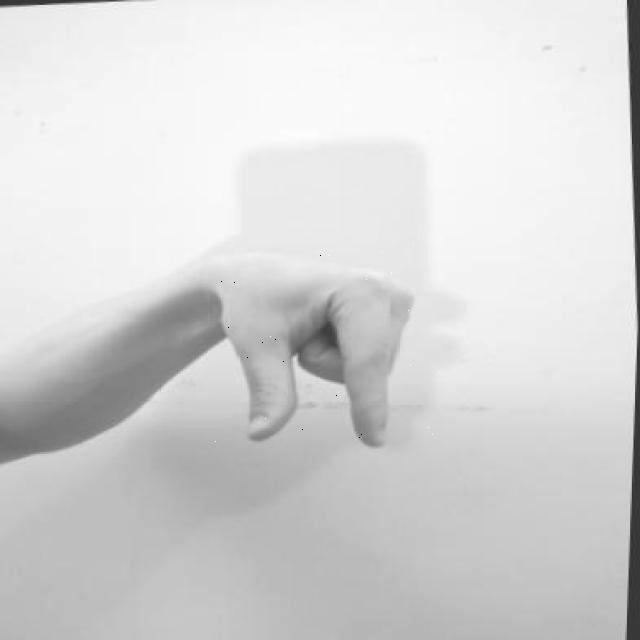Q: (208, 234, 440, 463)
